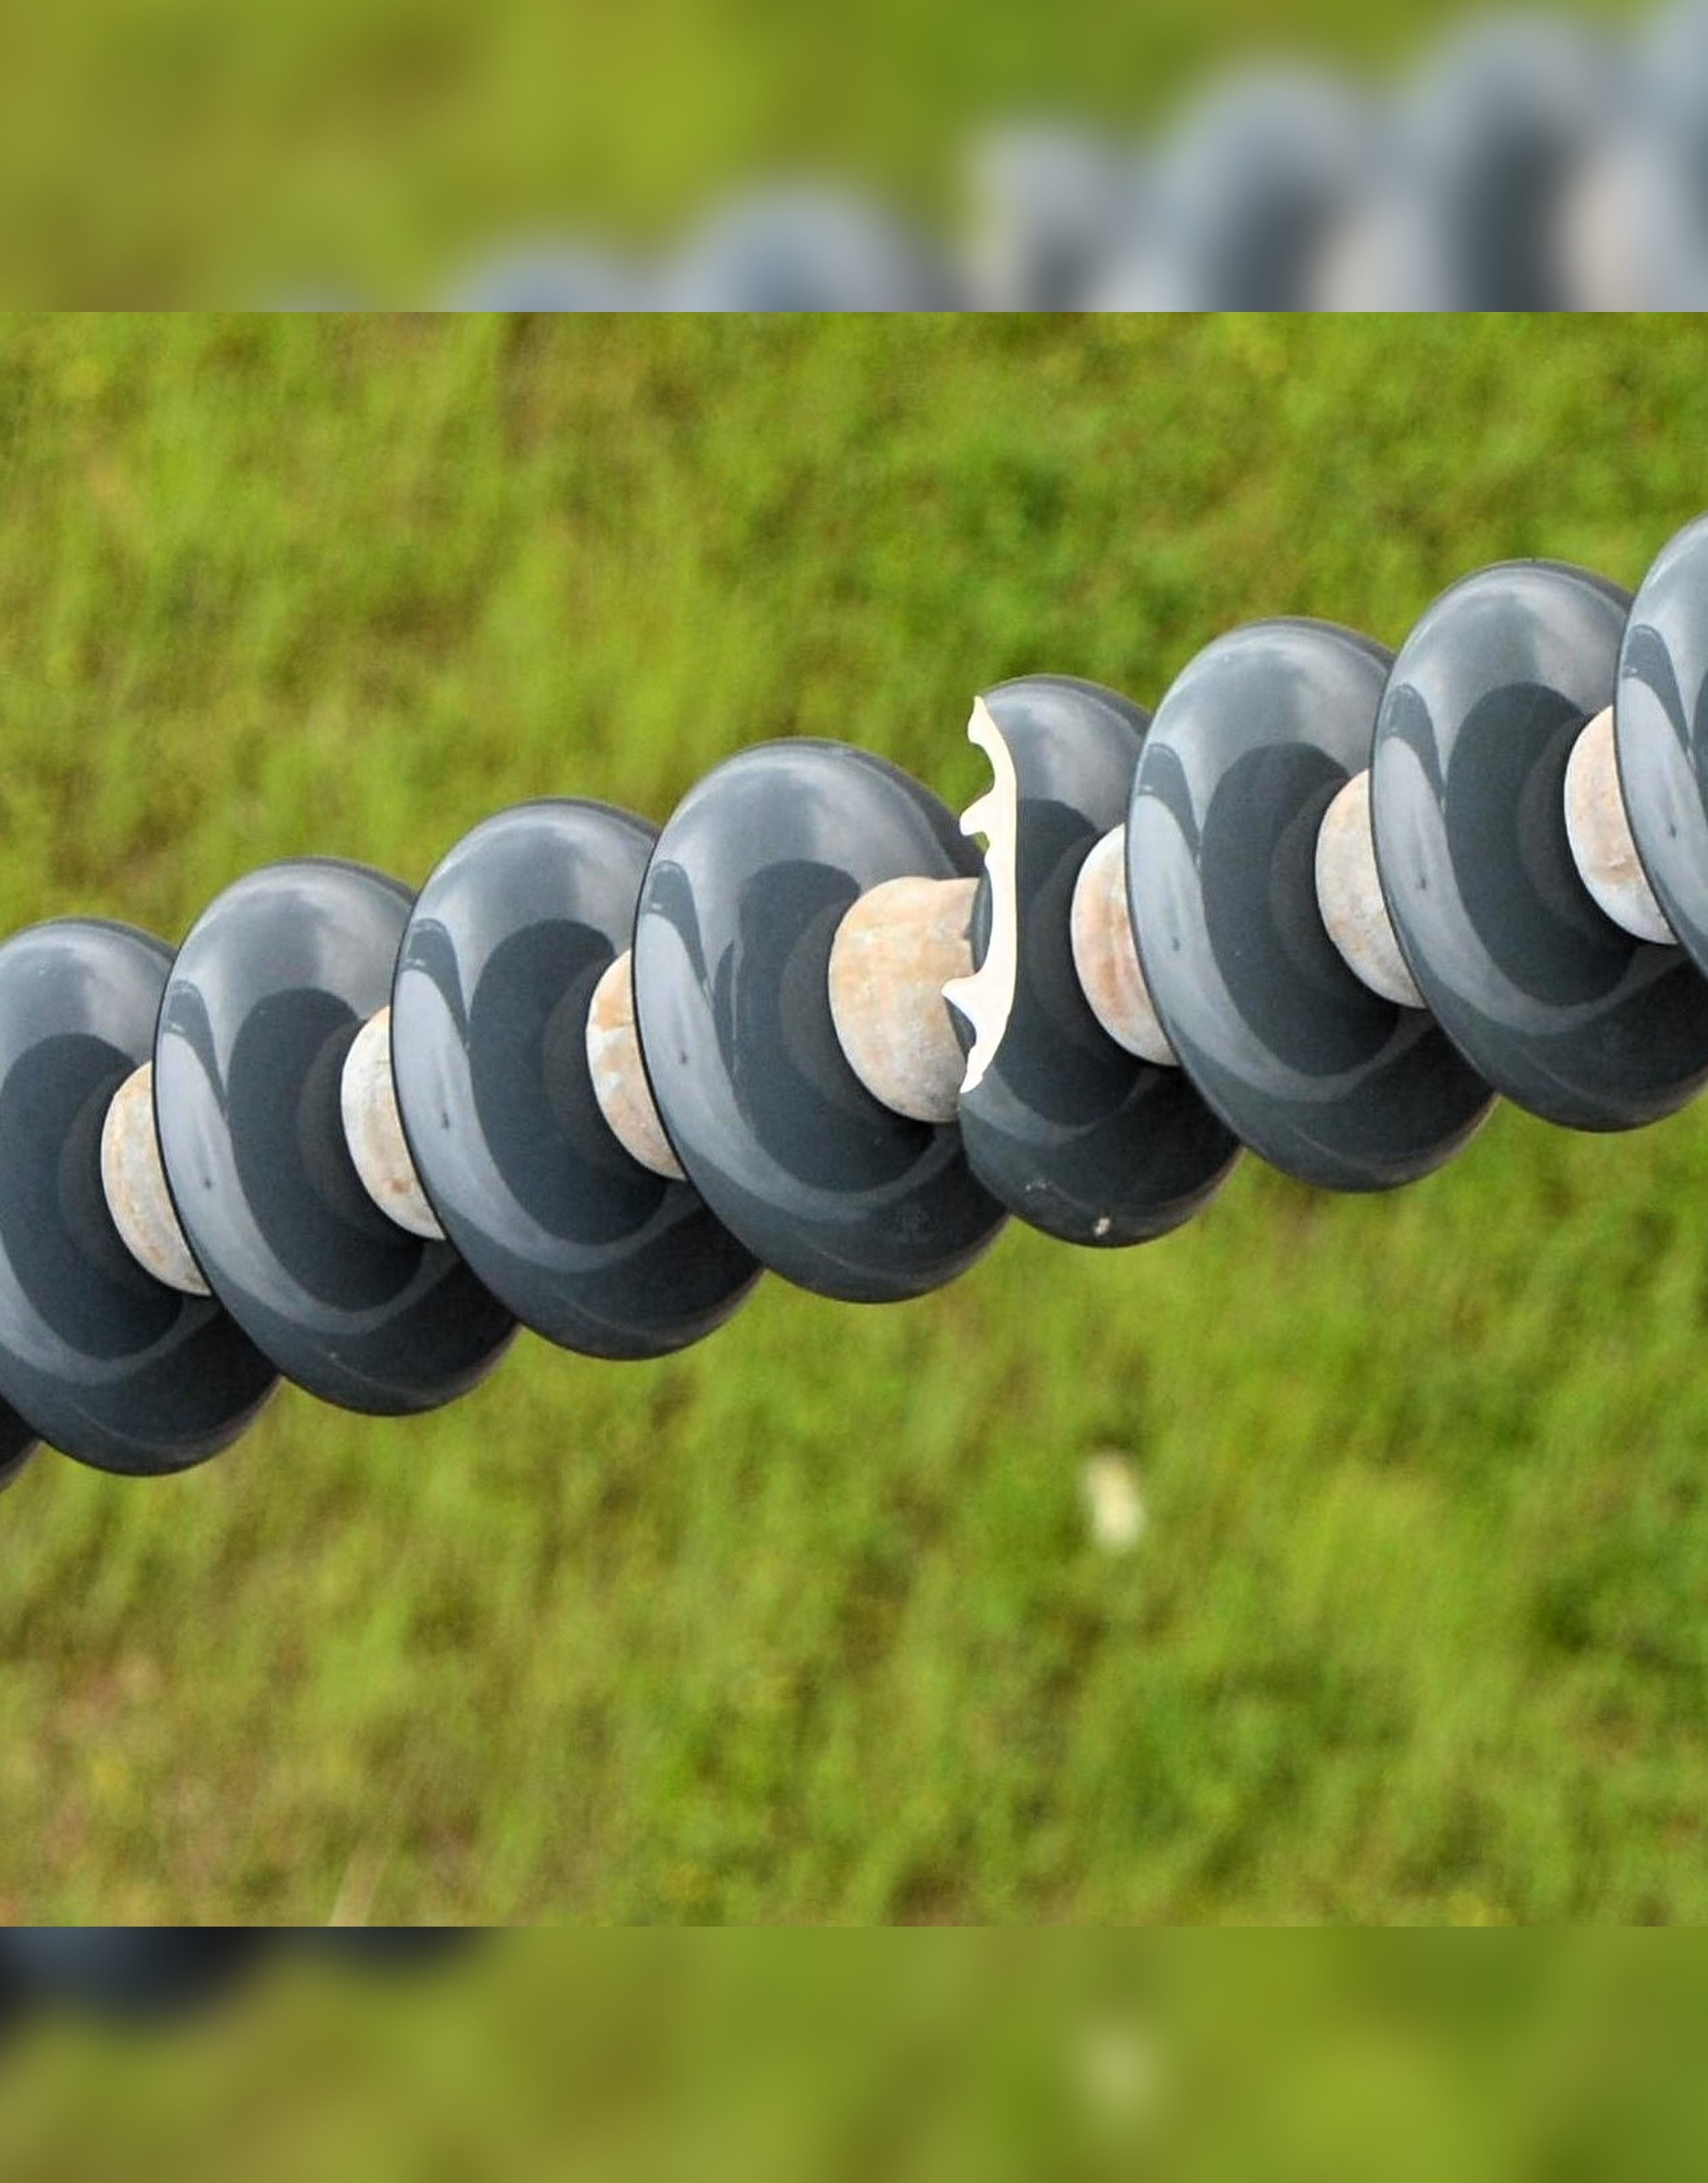insulator breakage: (909, 659, 1240, 1263)
